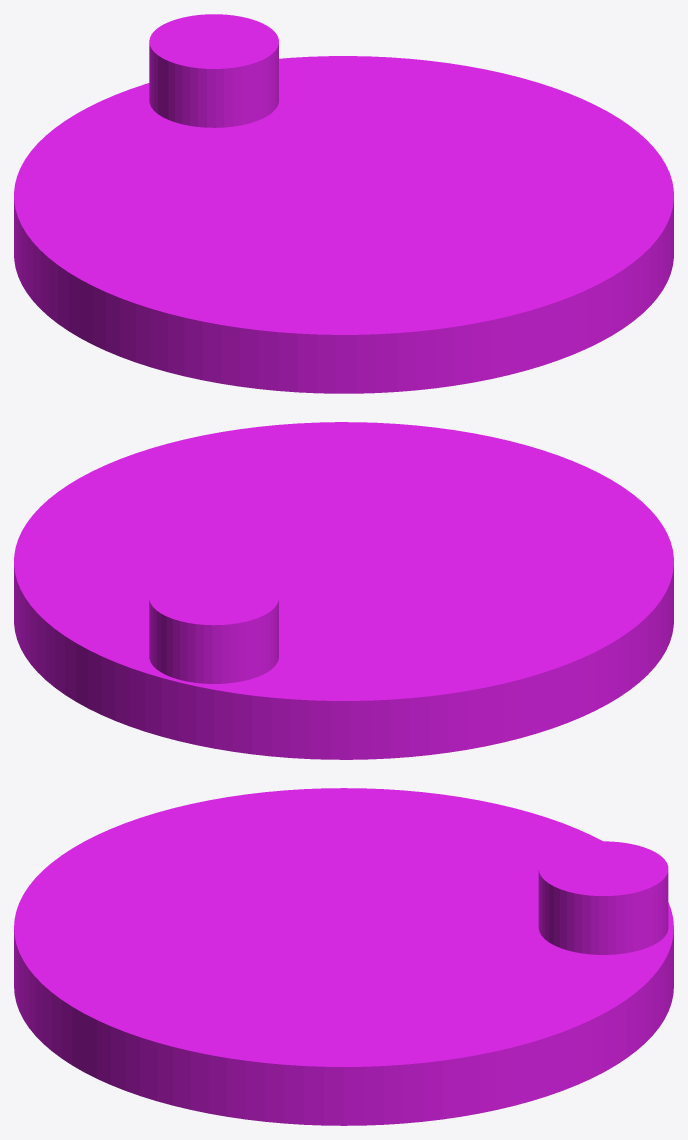
3 views of the same model, one above another, from view 1: azimuth 30°, elevation 25°; view 2: azimuth 150°, elevation 25°; view 3: azimuth 270°, elevation 25° (orthographic).
Size of the model in its own units: 102 by 30 by 102.
